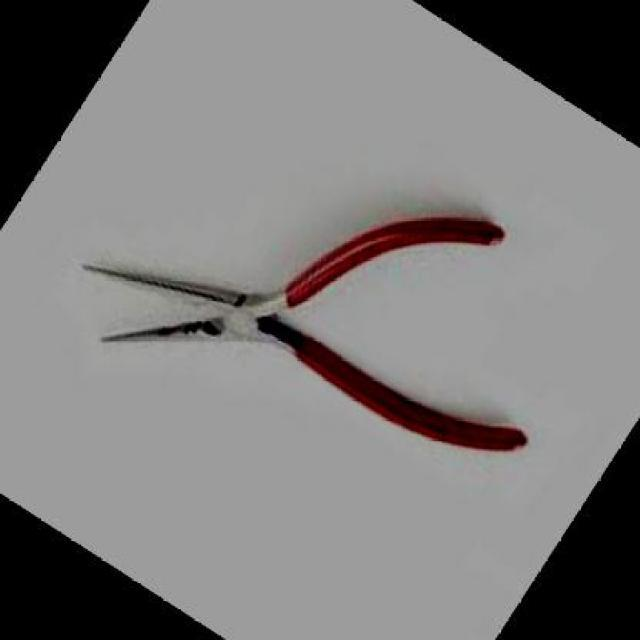pliers: (21, 21, 634, 588)
